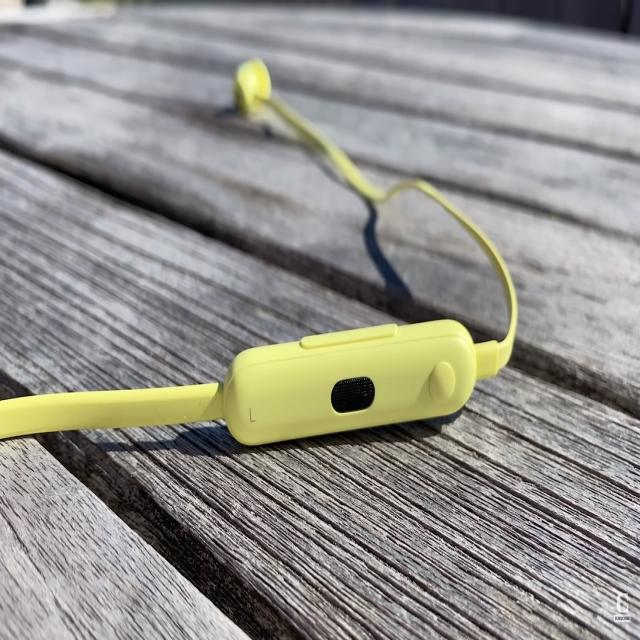Neckband: (2, 57, 519, 450)
